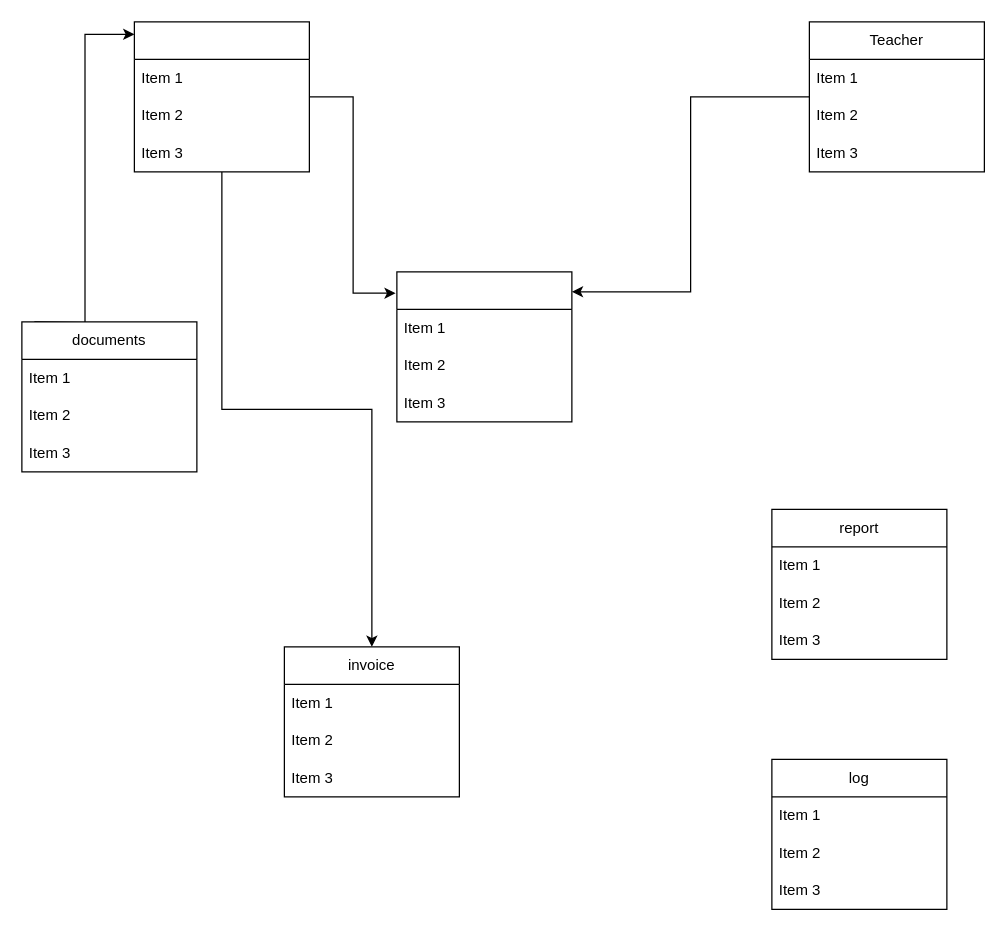
Some shapes in this 1006 by 931 pixel diagram are drawn without their labels. Each missing label, with the box of its shape:
class: (396, 271, 572, 422)
student: (133, 21, 309, 172)
